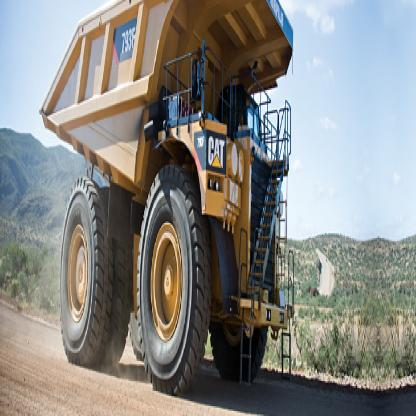dump_truck: (39, 0, 297, 414)
